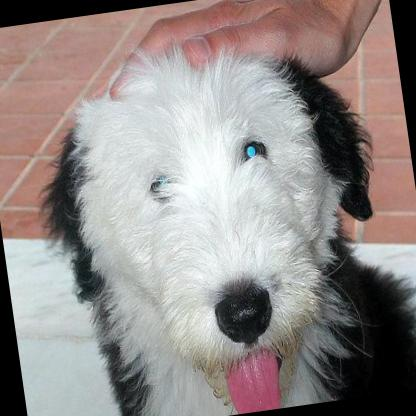Old_English_sheepdog: (23, 27, 416, 416)
